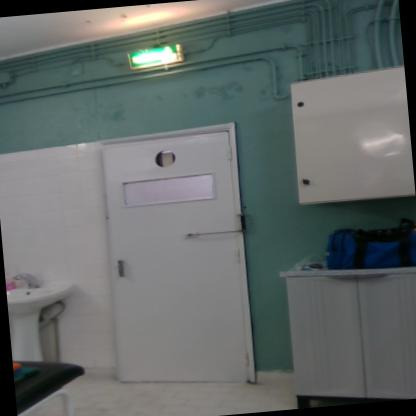closed: (86, 111, 277, 394)
